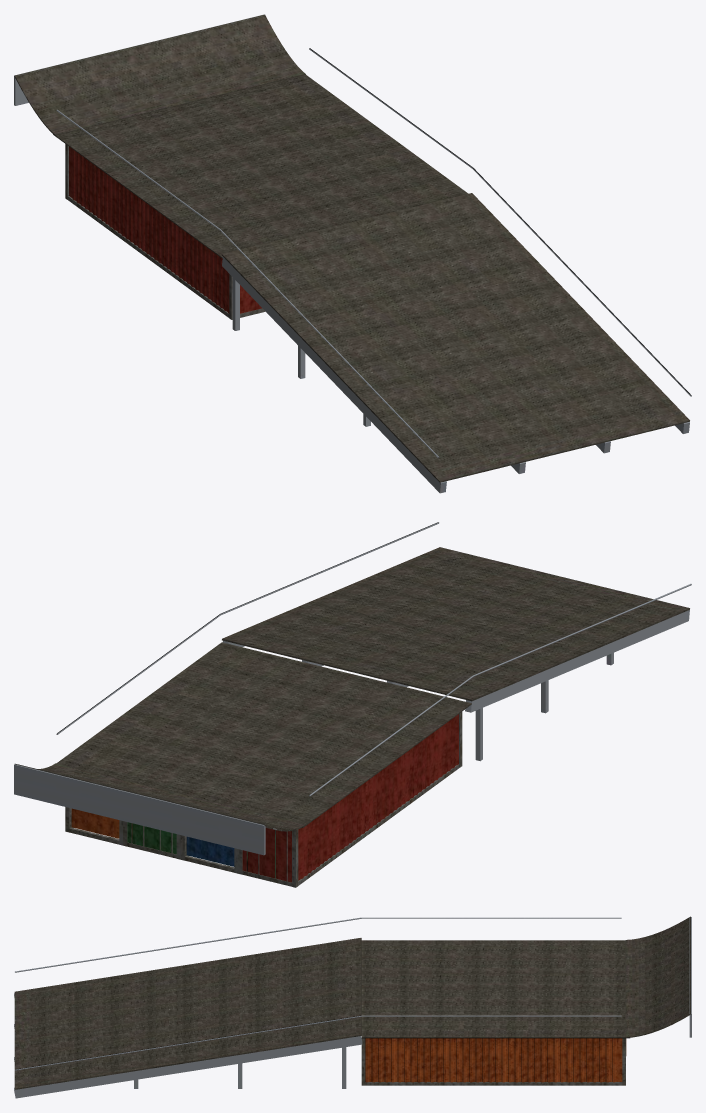
The model's file is crane_jump_stack.glb.
3 renders of one model, top to bottom at view 1: azimuth 30°, elevation 25°; view 2: azimuth 150°, elevation 25°; view 3: azimuth 270°, elevation 25°, orthographic. The views are drawn at different scales.
Visible parts, largest first — view 1: crane_jump_stack; view 2: crane_jump_stack; view 3: crane_jump_stack.
Part boxes in pixels (x1,y1,x2,y2): crane_jump_stack: (14, 14, 691, 493); crane_jump_stack: (14, 522, 691, 887); crane_jump_stack: (14, 916, 691, 1098).
Size of the model in its own units: 10.76 by 4.35 by 31.29.
1 material, 1 textured.
